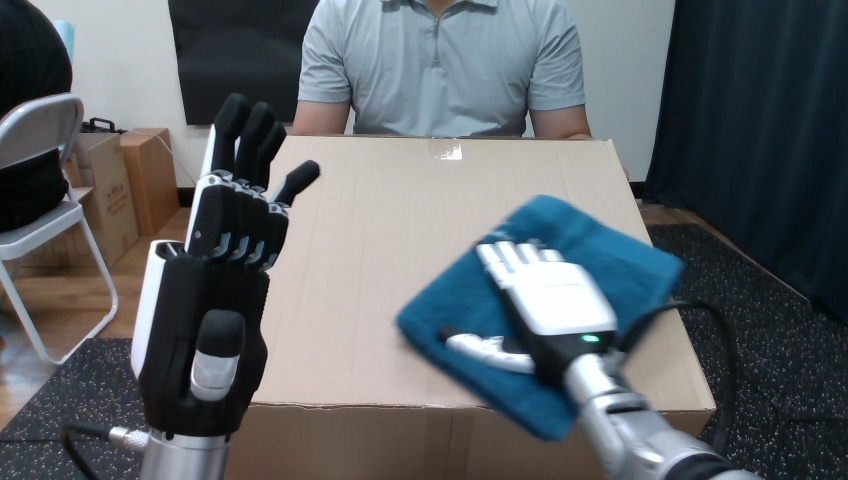left robot hand: (61, 94, 319, 478), (439, 239, 760, 479)
